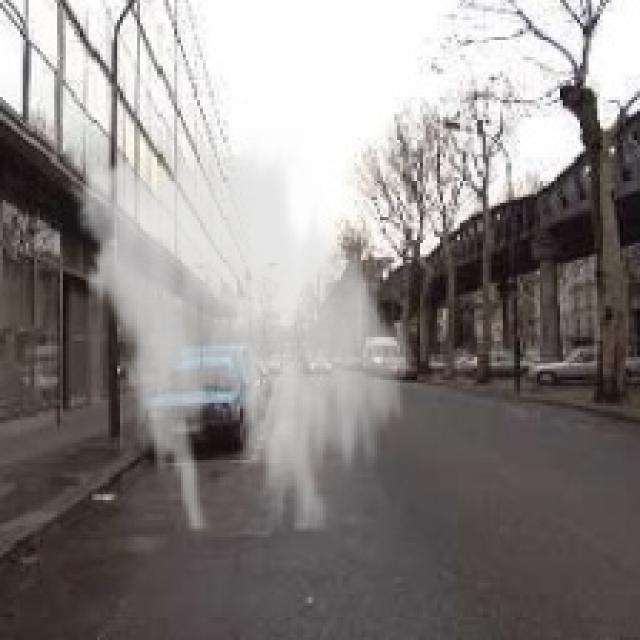Smoke: (60, 128, 423, 532)
